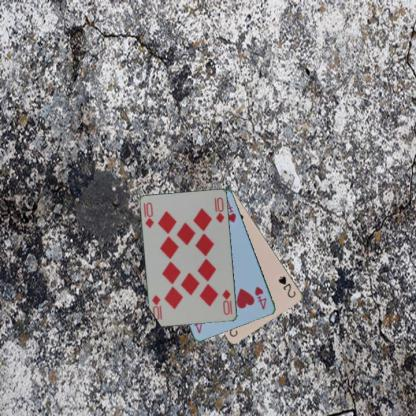10d: (219, 287, 234, 316), (143, 200, 155, 229)
2s: (276, 274, 297, 300)
4h: (252, 284, 268, 311)
